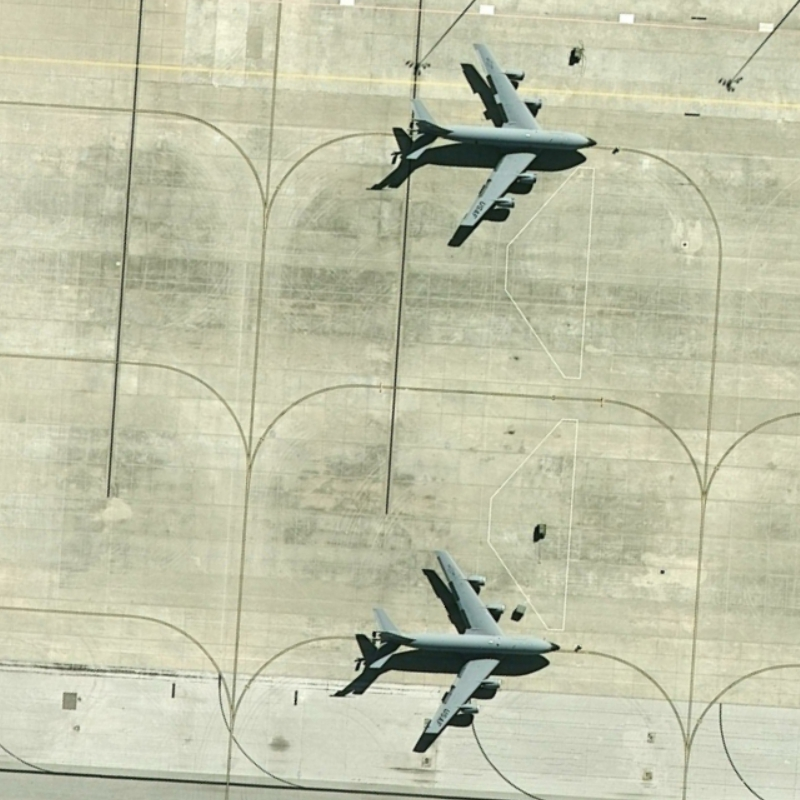A14: (395, 34, 602, 236), (358, 543, 567, 739)
